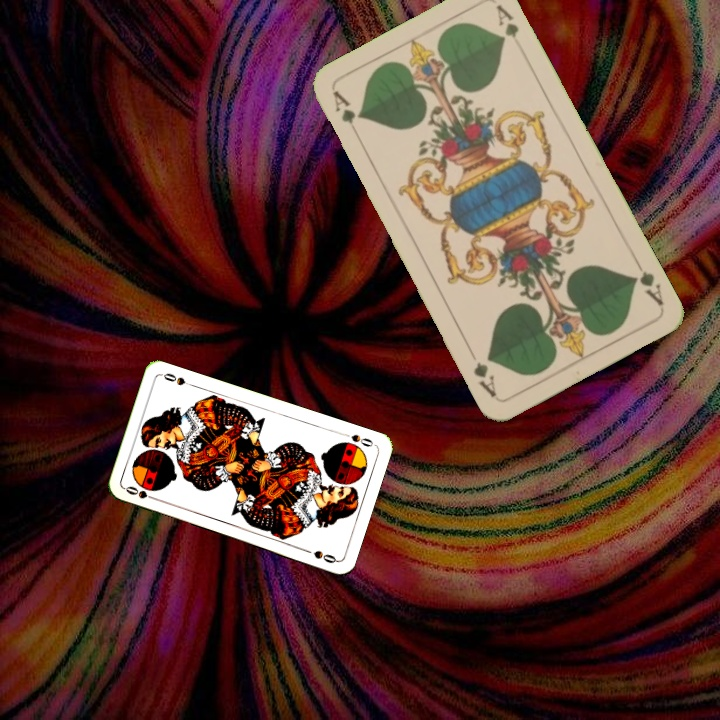GA: (626, 254, 666, 309), (329, 87, 364, 141)
SO: (121, 482, 161, 503), (338, 429, 377, 449)
